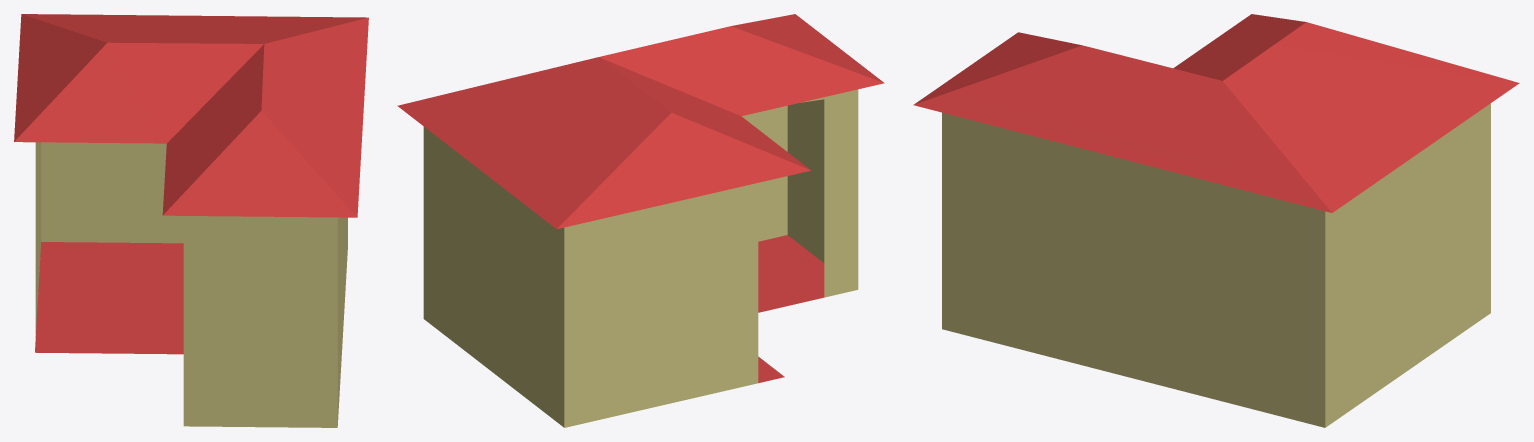
3 renders of one model, left to right at view 1: azimuth 30°, elevation 25°; view 2: azimuth 150°, elevation 25°; view 3: azimuth 270°, elevation 25°, orthographic. The views are drawn at different scales.
Visible parts, largest first — view 1: group_3, group_5, group_6, group_4; view 2: group_5, group_3, group_6, group_4; view 3: group_5, group_3, group_4.
Boxes of the visible parts, x1,y1,x2,y2 form: group_3: (14, 14, 368, 217); group_5: (35, 142, 347, 427); group_6: (35, 242, 183, 354); group_4: (14, 18, 363, 217); group_5: (423, 89, 858, 427); group_3: (397, 14, 884, 229); group_6: (758, 235, 824, 383); group_4: (401, 14, 866, 169); group_5: (942, 103, 1490, 427); group_3: (914, 14, 1519, 212); group_4: (913, 14, 1330, 210).
Bounding box in the file's own units: 16.77 × 21.59 × 10.98.
